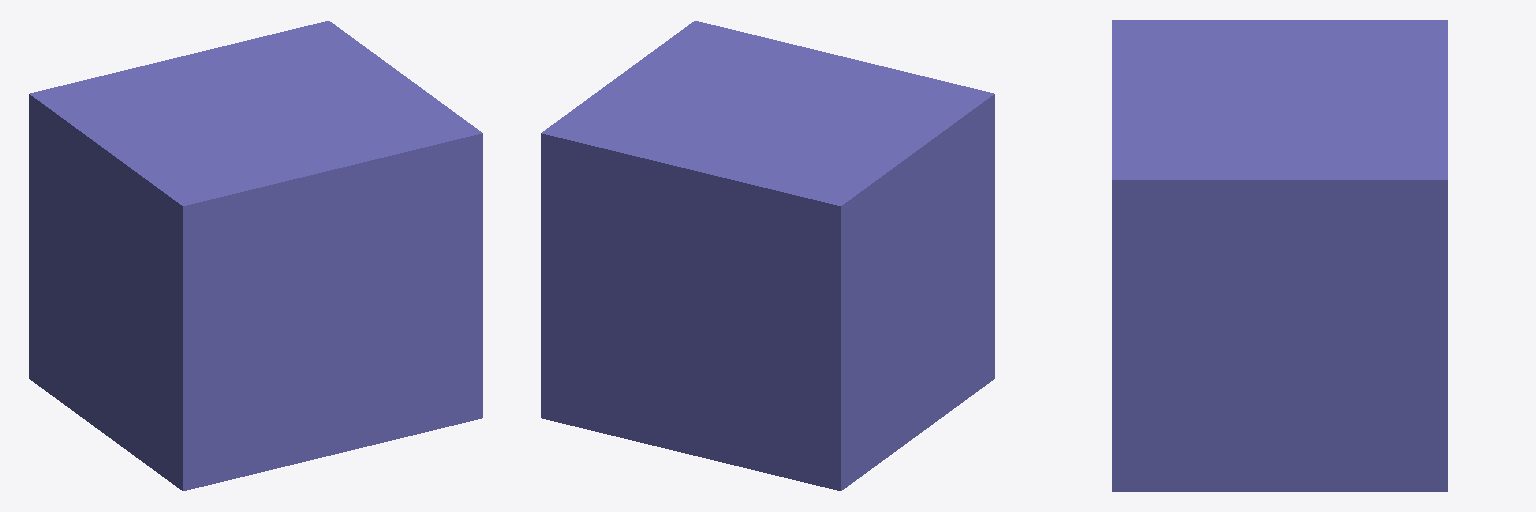
The robot description file, URDF, robot "chair_box":
<?xml version="1.0"?>
<robot name="chair_box">
  <link name="world"/>
  
  <!-- Single chair box -->
  <link name="chair_box_link">
    <visual>
      <origin xyz="0 0 0" rpy="0 0 0"/>
      <geometry>
        <mesh filename="multi_boxes.obj"/>
      </geometry>
      <material name="chair_box_material">
        <color rgba="0.5 0.5 0.8 1.0"/>
      </material>
    </visual>

    <collision name="chair_box">
      <origin xyz="0 0 0" rpy="0 0 0"/>
      <geometry>
        <mesh filename="multi_boxes.obj"/>
      </geometry>
    </collision>

    <inertial>
      <origin xyz="0 0 0.22225" rpy="0 0 0"/>
      <mass value="10.0"/>
      <inertia ixx="0.5" ixy="0.0" ixz="0.0" iyy="0.5" iyz="0.0" izz="0.5"/>
    </inertial>
  </link>

  <!-- Fixed joint to world -->
  <joint name="world_to_chair_box" type="fixed">
    <parent link="world"/>
    <child link="chair_box_link"/>
    <origin xyz="0 0 0" rpy="0 0 0"/>
  </joint>

</robot>

--- What the picture shows (computed from the rendered views, not written in the file) ---
Views: 3 orthographic renders of the robot side by side, from view 1: azimuth 30°, elevation 25°; view 2: azimuth 150°, elevation 25°; view 3: azimuth 270°, elevation 25°.
Model chair_box with 2 links and 1 joints (1 fixed), rooted at world, posed every joint at zero.
Visible links, largest first — view 1: chair_box_link; view 2: chair_box_link; view 3: chair_box_link.
Link boxes in pixels (left/top/right/bottom): chair_box_link: left=29, top=21, right=482, bottom=490; chair_box_link: left=541, top=21, right=994, bottom=490; chair_box_link: left=1112, top=20, right=1447, bottom=491.
Size in the robot's own frame: 0.4572 by 0.4064 by 0.415 metres.
1 mesh visuals loaded from 1 distinct referenced files (1 OBJ).
